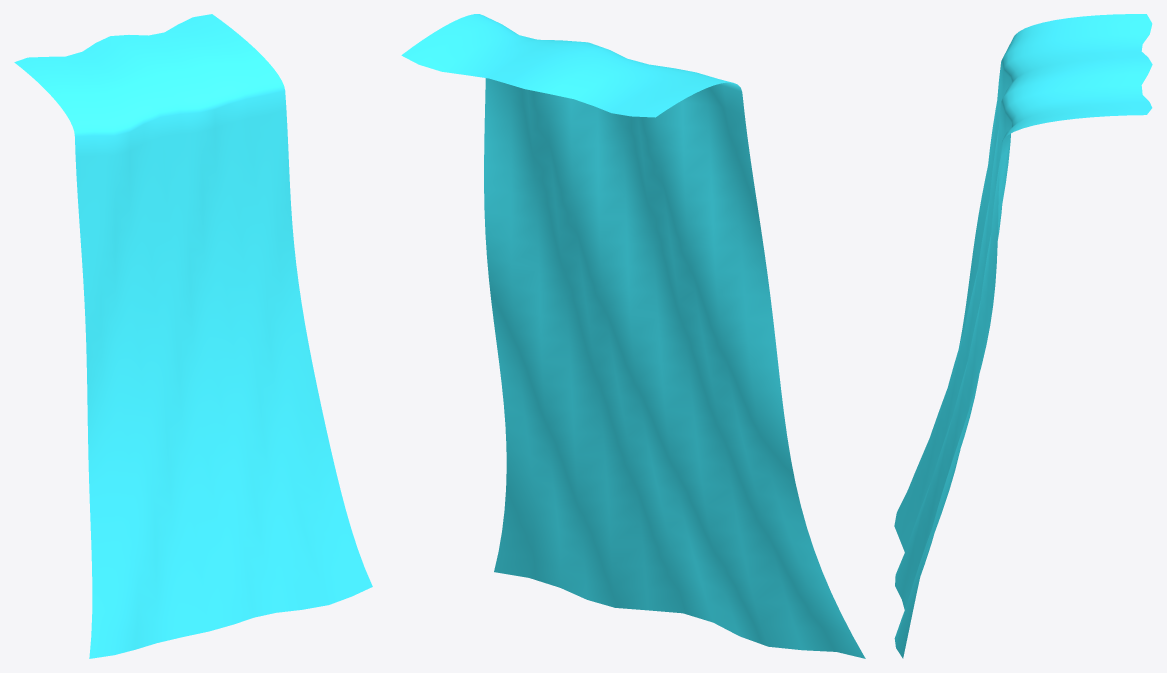
Rendered from SM_WF_WaterCurtain.fbx.
3 views of the same model, side by side, from view 1: azimuth 30°, elevation 25°; view 2: azimuth 150°, elevation 25°; view 3: azimuth 270°, elevation 25° (orthographic). The views are drawn at different scales.
Parts seen in each view (by area): view 1: SM_WF_WaterCurtain; view 2: SM_WF_WaterCurtain; view 3: SM_WF_WaterCurtain.
Part boxes in pixels (bbox=[...]): SM_WF_WaterCurtain: bbox=[14, 14, 372, 658]; SM_WF_WaterCurtain: bbox=[401, 14, 865, 658]; SM_WF_WaterCurtain: bbox=[894, 14, 1152, 658].
Size of the model in its own units: 136 by 101 by 228.
